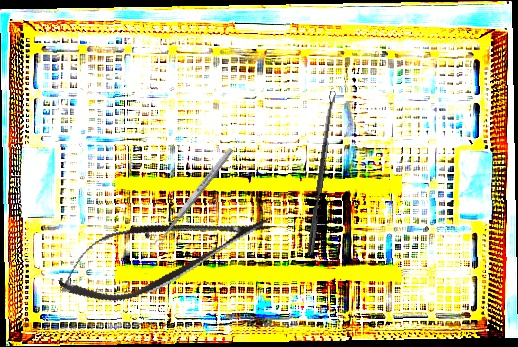Micro Scissor: (49, 189, 279, 317)
Surgical Spoon: (153, 146, 235, 248), (306, 90, 338, 257)
